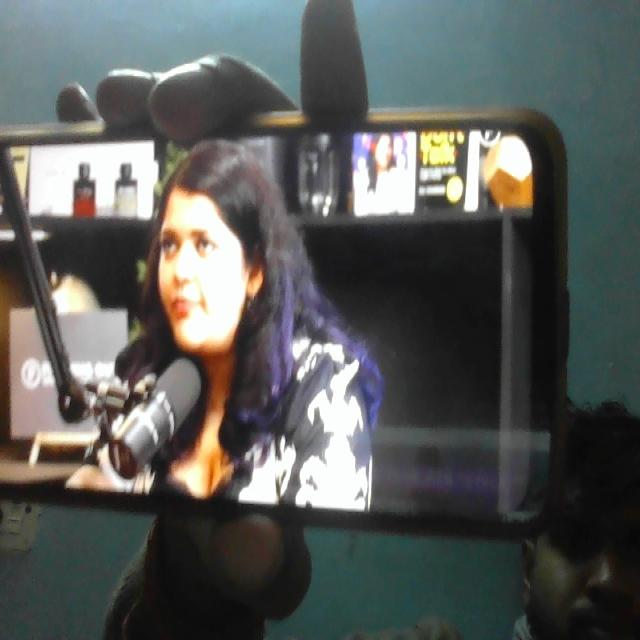fake: (146, 115, 272, 352)
